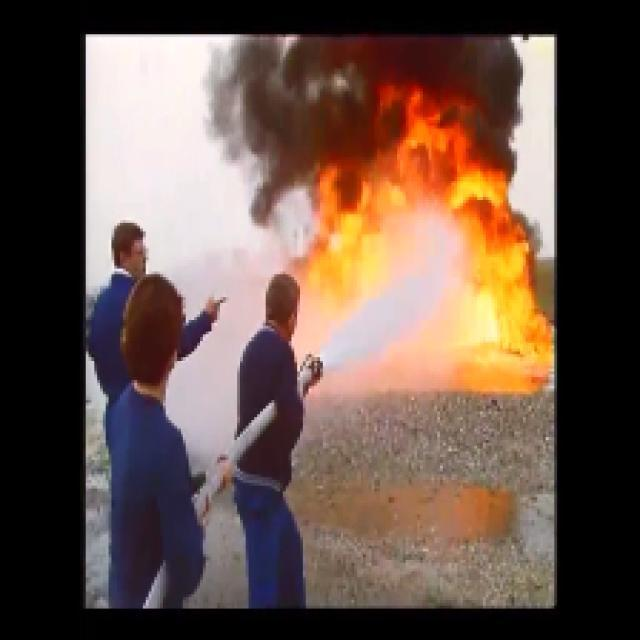Fire: (293, 134, 542, 368)
Smoke: (225, 42, 292, 194), (307, 38, 530, 82), (296, 89, 374, 130)
